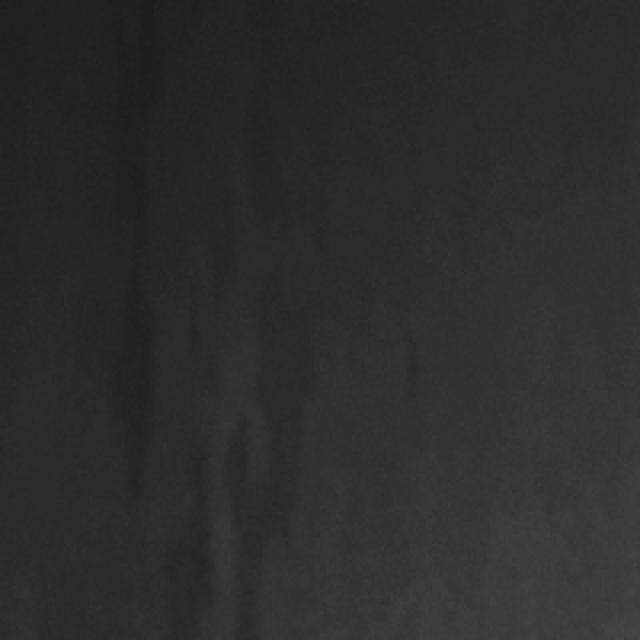inclusion: (99, 0, 174, 508), (230, 242, 332, 533), (150, 437, 226, 638)
